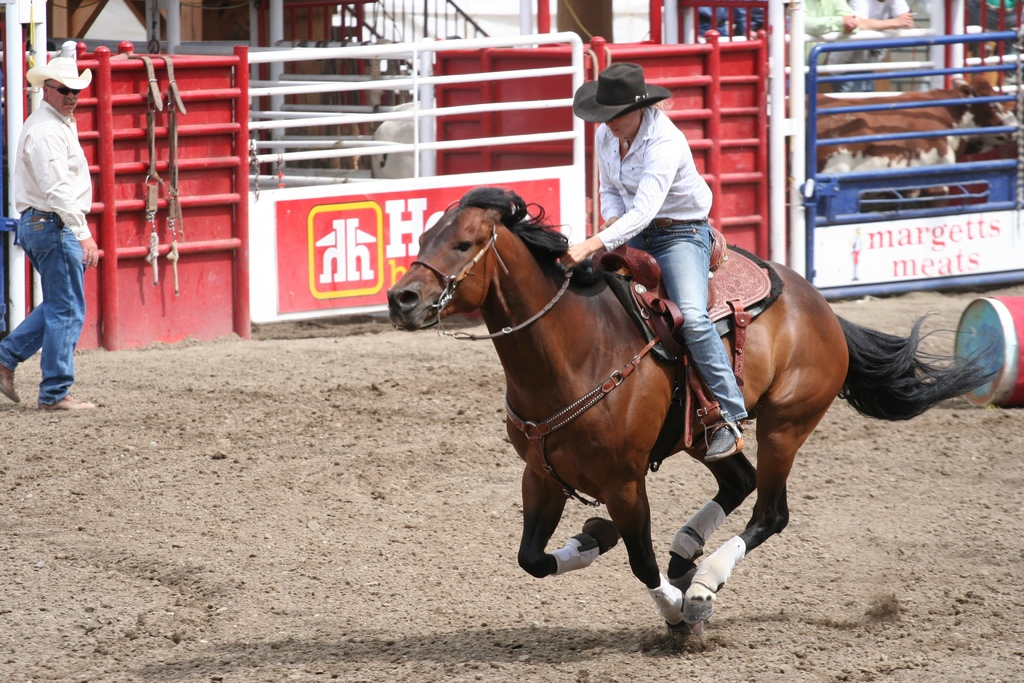horse: (383, 187, 1006, 638)
